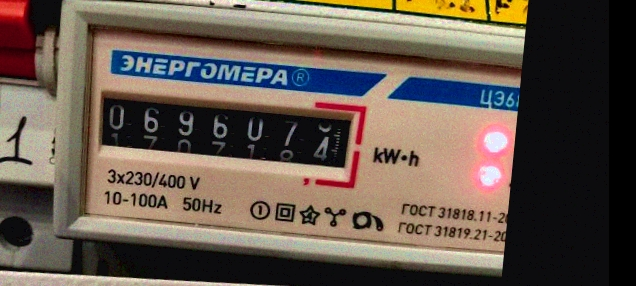0: (243, 111, 265, 142), (105, 100, 126, 130)
4: (311, 132, 330, 162)
6: (209, 109, 230, 140), (140, 103, 162, 132)
7: (279, 116, 299, 148)
9: (175, 107, 194, 137)
screen: (80, 71, 372, 187)
